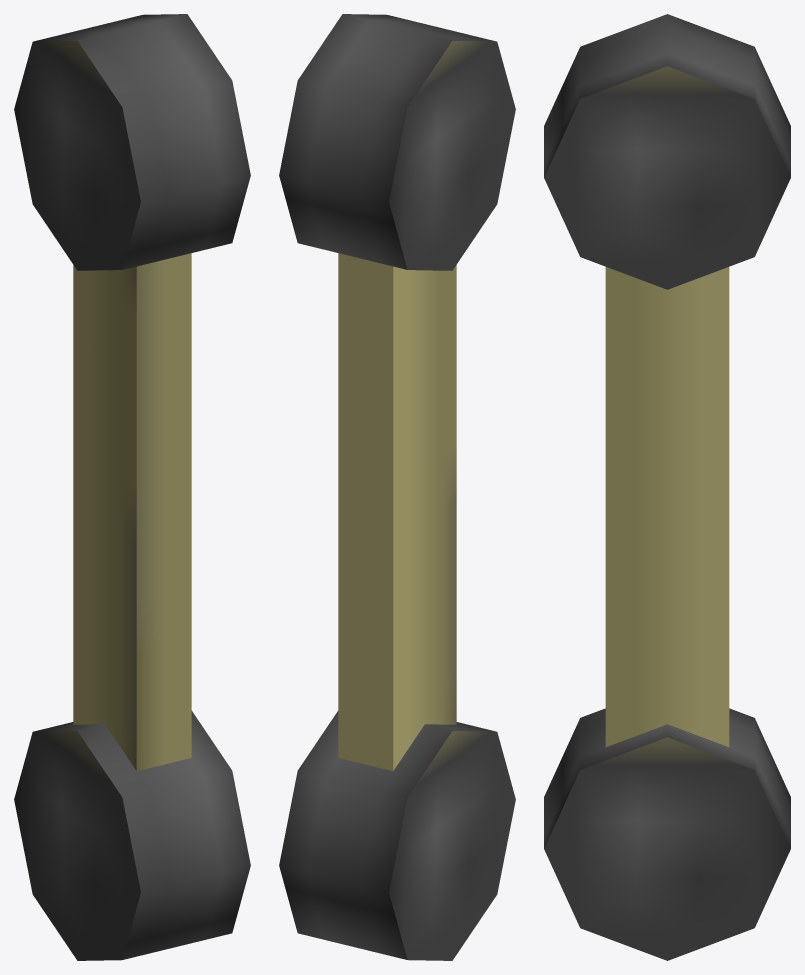
The model's file is precass_armlower2.obj.
3 views of the same model, side by side, from view 1: azimuth 30°, elevation 25°; view 2: azimuth 150°, elevation 25°; view 3: azimuth 270°, elevation 25° (orthographic). The views are drawn at different scales.
Parts seen in each view (by area): view 1: ArmLower2; view 2: ArmLower2; view 3: ArmLower2.
Part boxes in pixels (box(x1,y1,x2,y2)): ArmLower2: box(14, 14, 250, 960); ArmLower2: box(279, 14, 515, 960); ArmLower2: box(544, 14, 790, 960).
Bounding box in the file's own units: 0.125 × 1 × 0.25.
